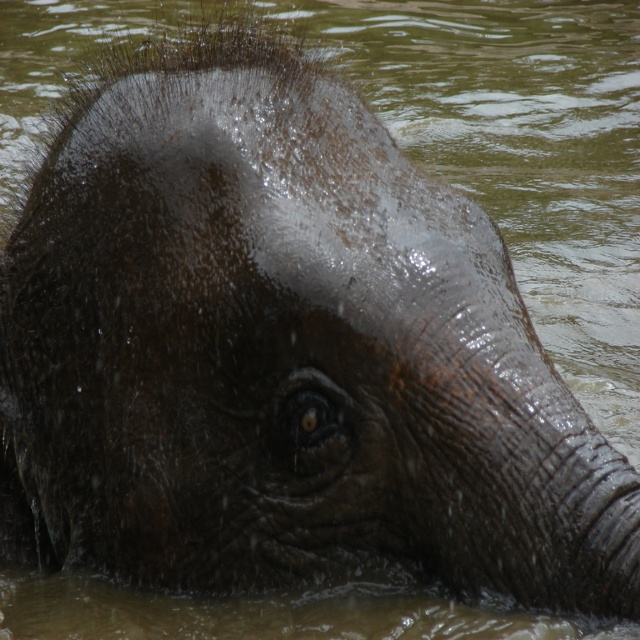Elephant: (0, 63, 606, 640)
